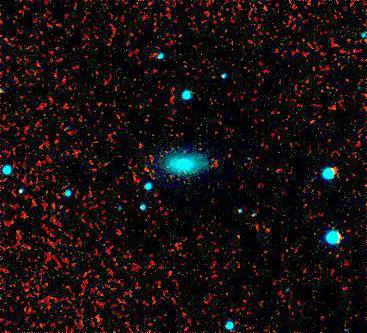star: (86, 273, 116, 303)
